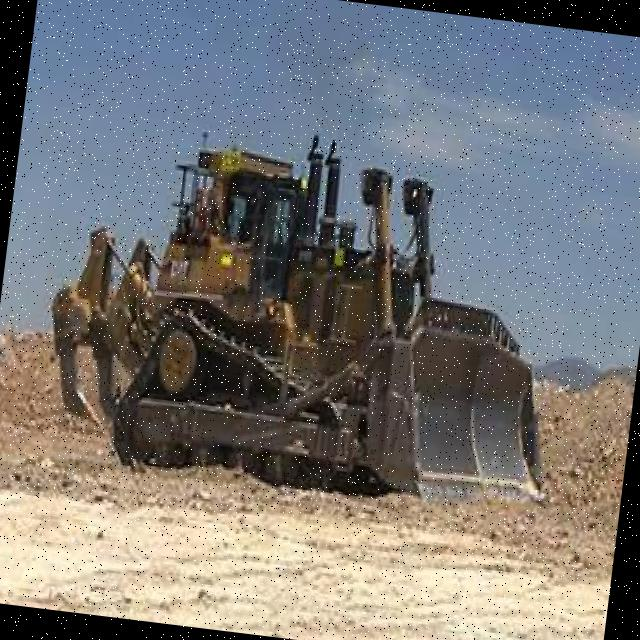Bulldozer: (18, 50, 592, 572)
